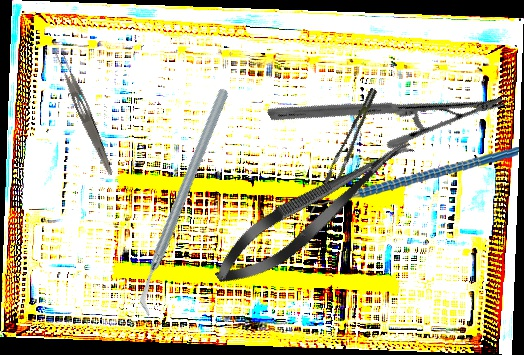Chopper: (68, 86, 301, 319), (306, 132, 519, 237)
Dressing Forceps: (50, 47, 120, 177)
Micro Scissor: (204, 124, 424, 299)
Needle Holder: (266, 1, 506, 216)
Tissue Forceps: (313, 87, 391, 192)
